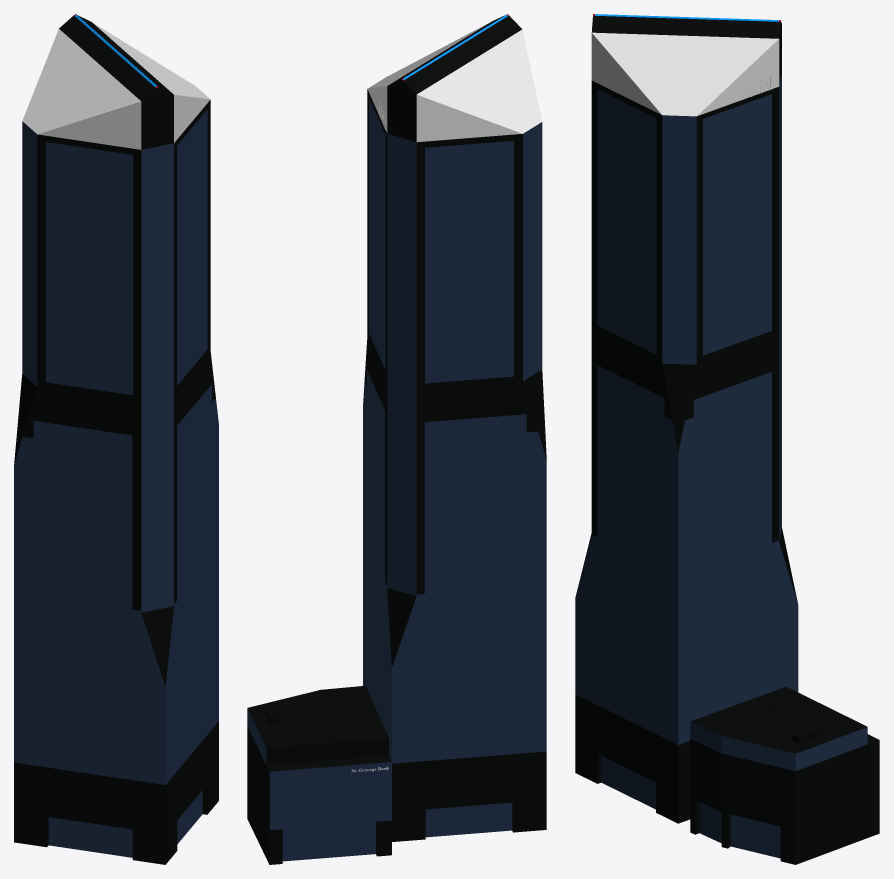
The picture shows the model from 3 angles, left to right: view 1: azimuth 30°, elevation 25°; view 2: azimuth 150°, elevation 25°; view 3: azimuth 270°, elevation 25°; orthographic projection.
Visible parts, largest first — view 1: Composant#2_001, Composant#4_001, Composant#1_001, Composant#6_001, Composant#3_001; view 2: Composant#2_001, Composant#5_001, Composant#4_001, Composant#1_001, Composant#3_001, Composant#6_001; view 3: Composant#2_001, Composant#5_001, Composant#6_001, Composant#1_001.
Boxes of the visible parts, x1=… form: Composant#2_001: x1=14, y1=100, x2=218, y2=864; Composant#4_001: x1=22, y1=29, x2=141, y2=149; Composant#1_001: x1=59, y1=14, x2=173, y2=101; Composant#6_001: x1=93, y1=23, x2=210, y2=142; Composant#3_001: x1=141, y1=95, x2=173, y2=149; Composant#2_001: x1=363, y1=89, x2=546, y2=841; Composant#5_001: x1=247, y1=685, x2=391, y2=864; Composant#4_001: x1=416, y1=29, x2=542, y2=142; Composant#1_001: x1=387, y1=14, x2=522, y2=94; Composant#3_001: x1=387, y1=86, x2=416, y2=141; Composant#6_001: x1=367, y1=22, x2=490, y2=133; Composant#2_001: x1=575, y1=72, x2=798, y2=823; Composant#5_001: x1=690, y1=686, x2=879, y2=864; Composant#6_001: x1=591, y1=32, x2=779, y2=116; Composant#1_001: x1=591, y1=14, x2=781, y2=38.
Bounding box in the file's own units: 60087 × 177030 × 63196.
